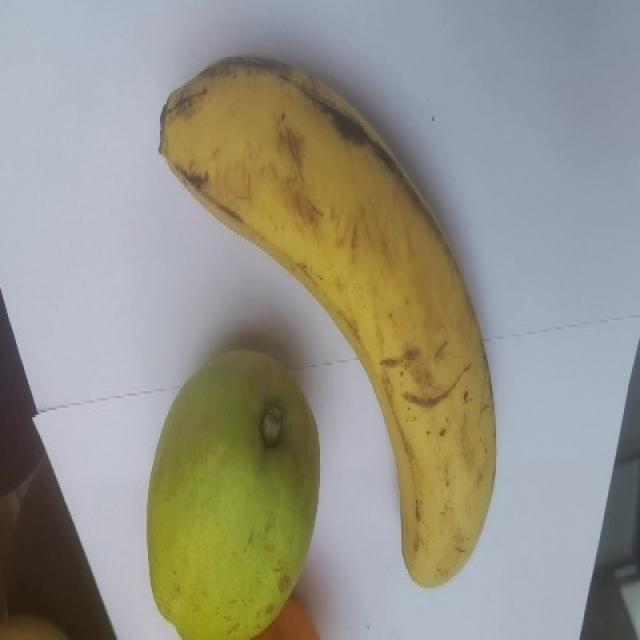Banana: (157, 54, 497, 588)
